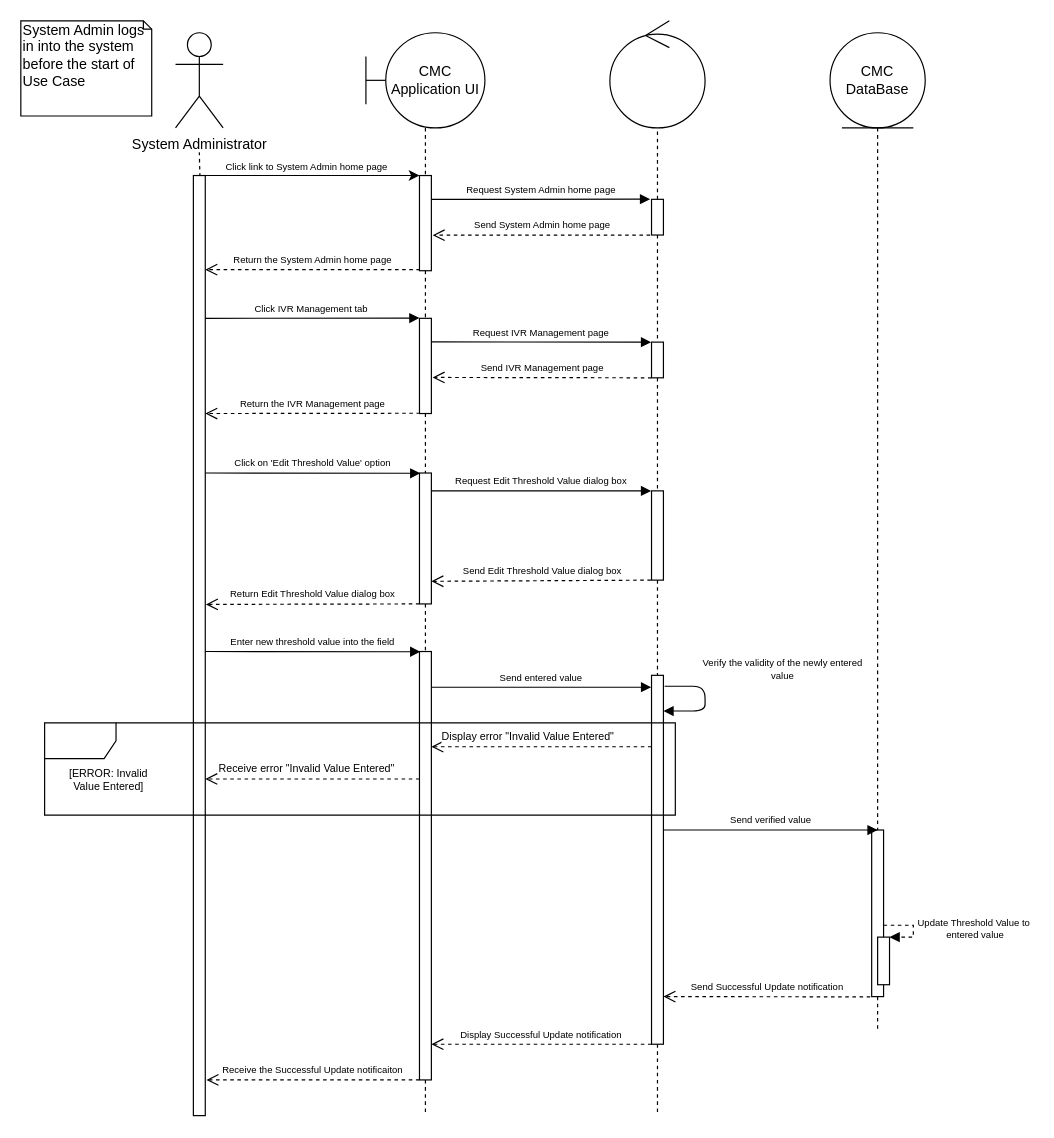
Image size: 1054x1138. Some labels were removed from this diagram. Here are the shapes that lost their labels. From the top down, the box of each, then its label:
(609, 20, 705, 128): CMC Application Controller
(43, 722, 675, 815): BREAK
